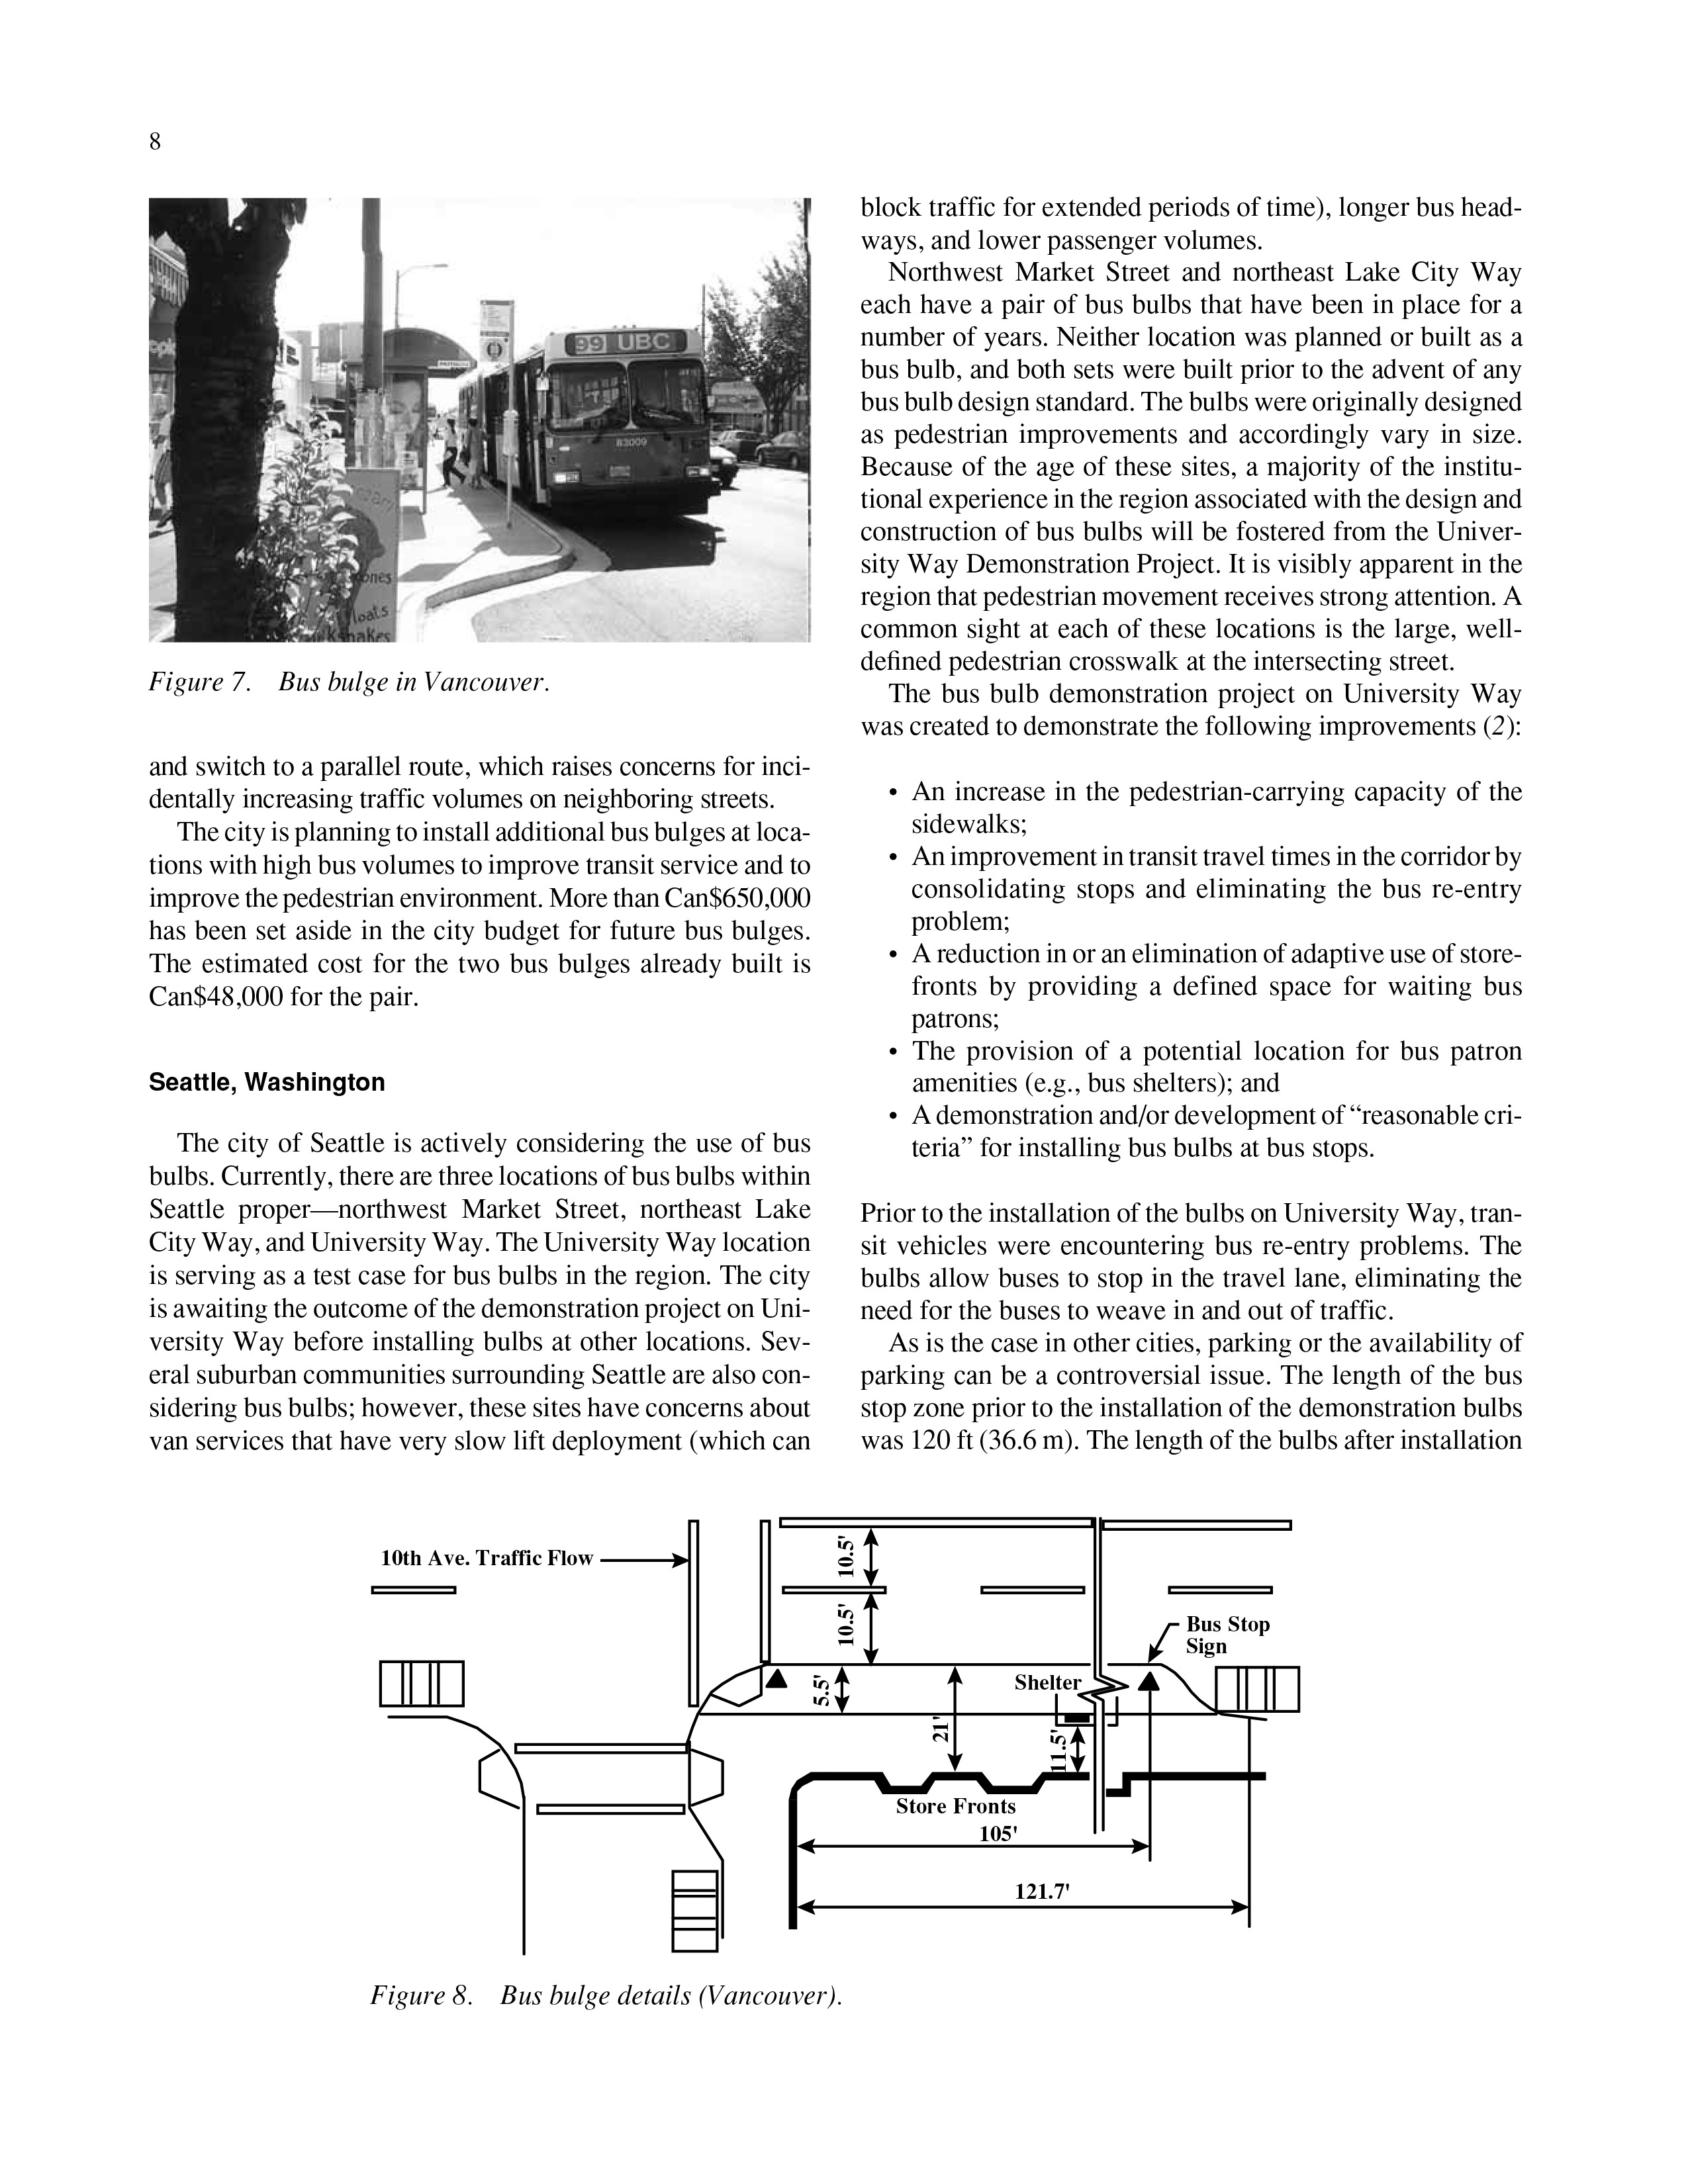caption: (348, 1985, 860, 2028), (138, 663, 585, 704)
figure: (356, 1521, 1316, 1962), (133, 199, 803, 645)
list: (869, 780, 1537, 1156)
section: (138, 1060, 399, 1099)
text: (849, 175, 1537, 746), (126, 1136, 810, 1454), (142, 746, 816, 1021), (856, 1197, 1530, 1464)
